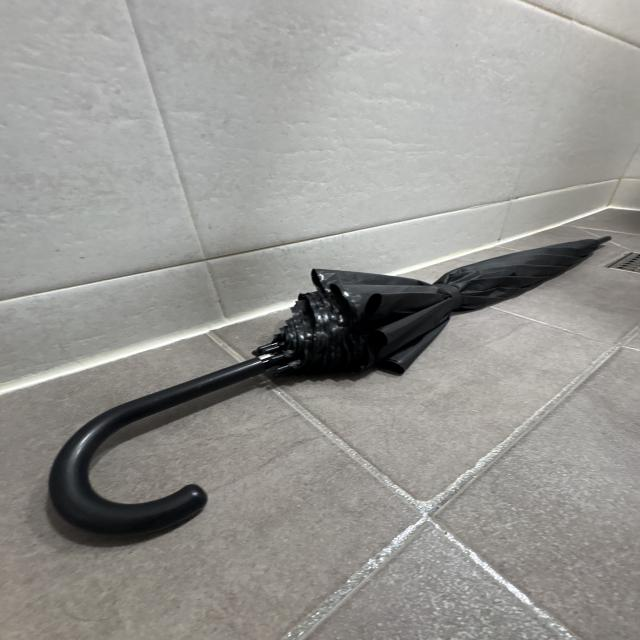umbrella: (49, 237, 610, 540)
